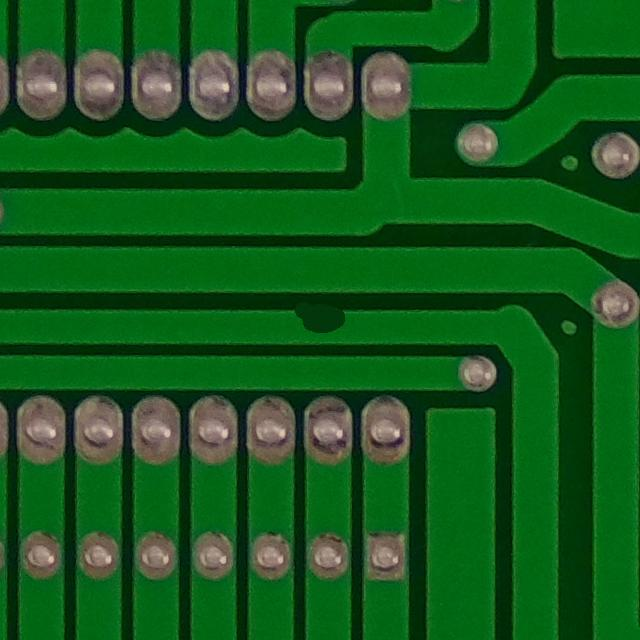mouse_bite: (278, 292, 363, 349)
